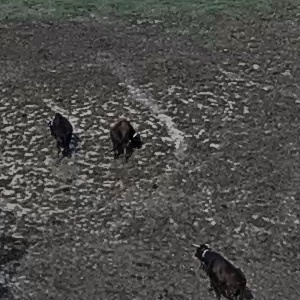cow: (179, 230, 270, 299), (96, 110, 159, 168), (39, 102, 80, 168)
